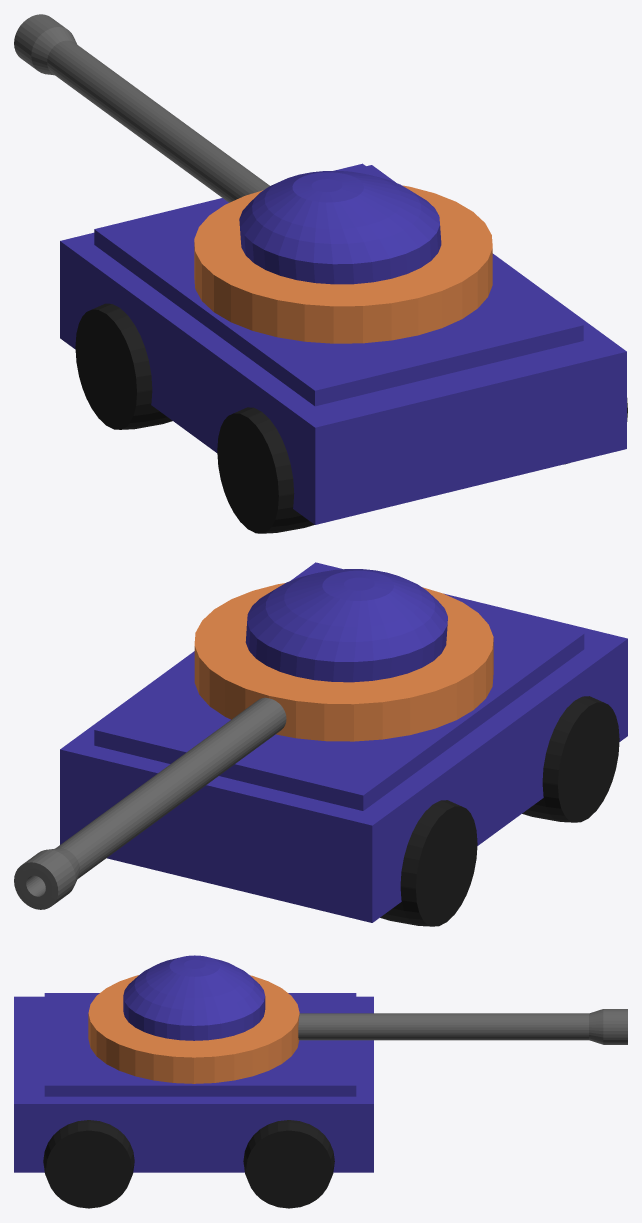
File: Tank.fbx
3 renders of one model, top to bottom at view 1: azimuth 30°, elevation 25°; view 2: azimuth 150°, elevation 25°; view 3: azimuth 270°, elevation 25°, orthographic. The views are drawn at different scales.
Visible parts, largest first — view 1: Plane, Cylinder, Cylinder.001, Cylinder.002, Cube.002, Cube.004; view 2: Plane, Cylinder, Cylinder.001, Cylinder.002, Cube.002, Cube.004; view 3: Plane, Cylinder, Cylinder.001, Cylinder.002, Cube.001, Cube.003.
Boxes of the visible parts, x1,y1,x2,y2 form: Plane: (60, 163, 626, 524); Cylinder: (194, 185, 492, 343); Cylinder.001: (239, 170, 441, 284); Cylinder.002: (14, 14, 269, 202); Cube.002: (75, 303, 172, 429); Cube.004: (217, 407, 314, 533); Plane: (60, 562, 627, 922); Cylinder: (194, 583, 493, 741); Cylinder.001: (245, 569, 447, 682); Cylinder.002: (14, 697, 286, 909); Cube.002: (380, 800, 477, 926); Cube.004: (522, 696, 619, 822); Plane: (14, 993, 373, 1172); Cylinder: (88, 975, 299, 1083); Cylinder.001: (123, 955, 265, 1040); Cylinder.002: (298, 1009, 627, 1044); Cube.001: (243, 1120, 334, 1208); Cube.003: (43, 1120, 134, 1208).
Size of the model in its own units: 359 by 250 by 773.
